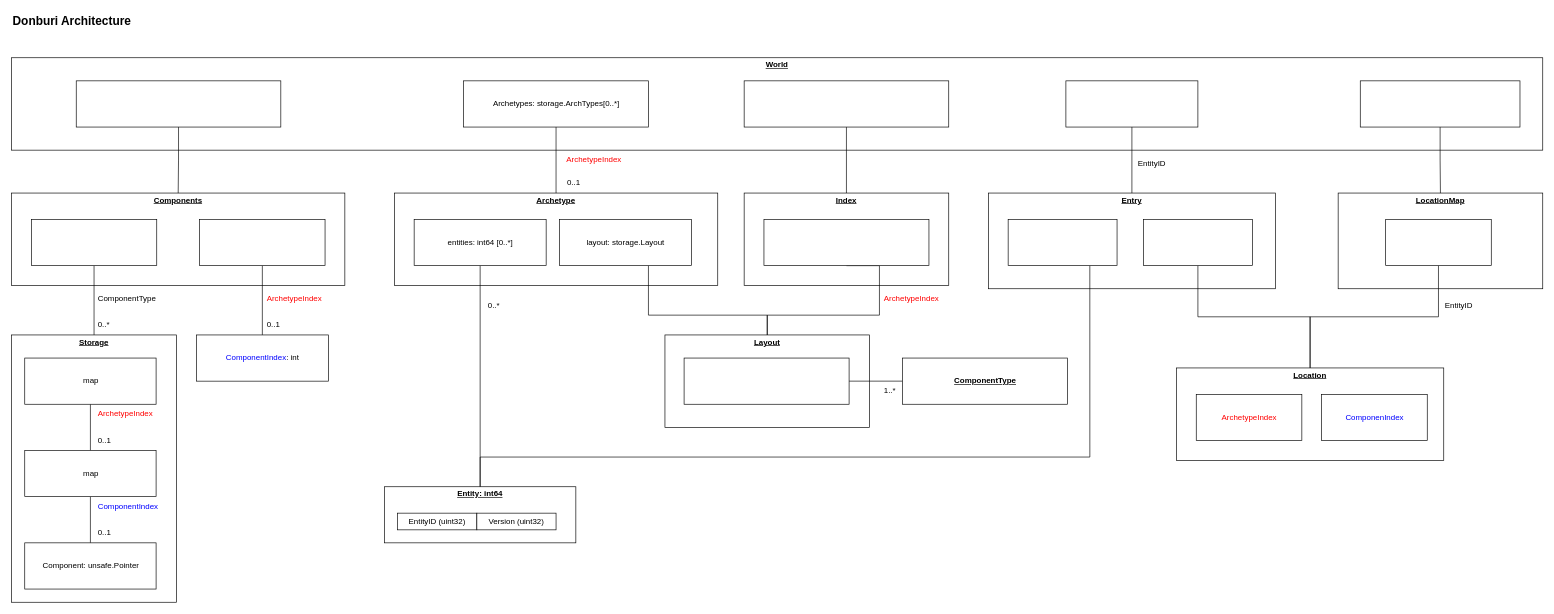
The diagram is 1554 pixels wide and 614 high, and some of its shapes have lost their labels. Here are the shapes that lost their labels. From the top down, the centre of each, then its label:
point (178, 103): Components: storage.Components
point (846, 103): Index: storage.Index
point (1131, 103): entries: map
point (1440, 103): entities: storage.LocationMap
point (94, 242): storages: map
point (262, 242): componentIndices: map
point (846, 242): layouts: map
point (1062, 242): entity: Entity
point (1197, 242): location: Location
point (1438, 242): Locations: map
point (766, 380): CompoentTypes: ComponentType[1..*]
